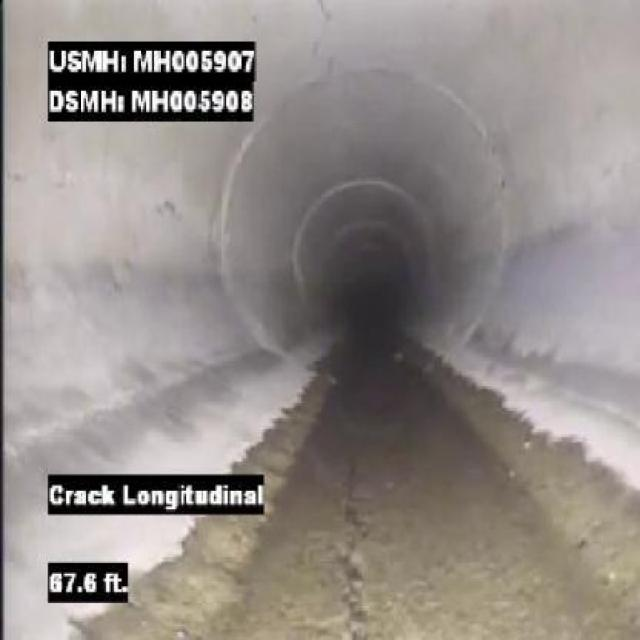Crack: (334, 518, 381, 638), (148, 182, 200, 222), (302, 3, 344, 32)
